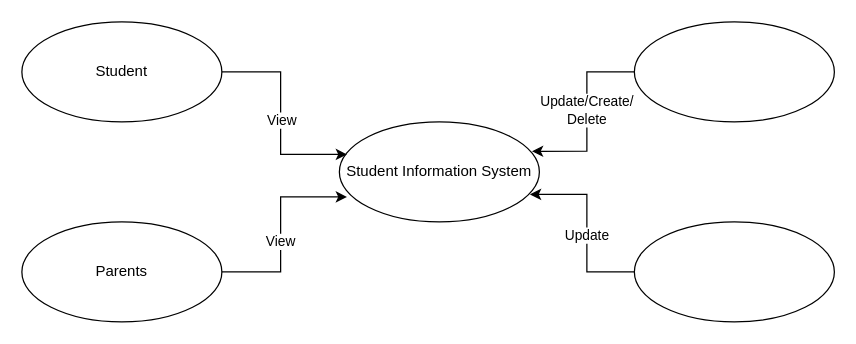
Some shapes in this 856 by 344 pixel diagram are drawn without their labels. Each missing label, with the centre of its shape:
"Admin" belongs at pixel 733 71.
"Teachers" belongs at pixel 733 271.
